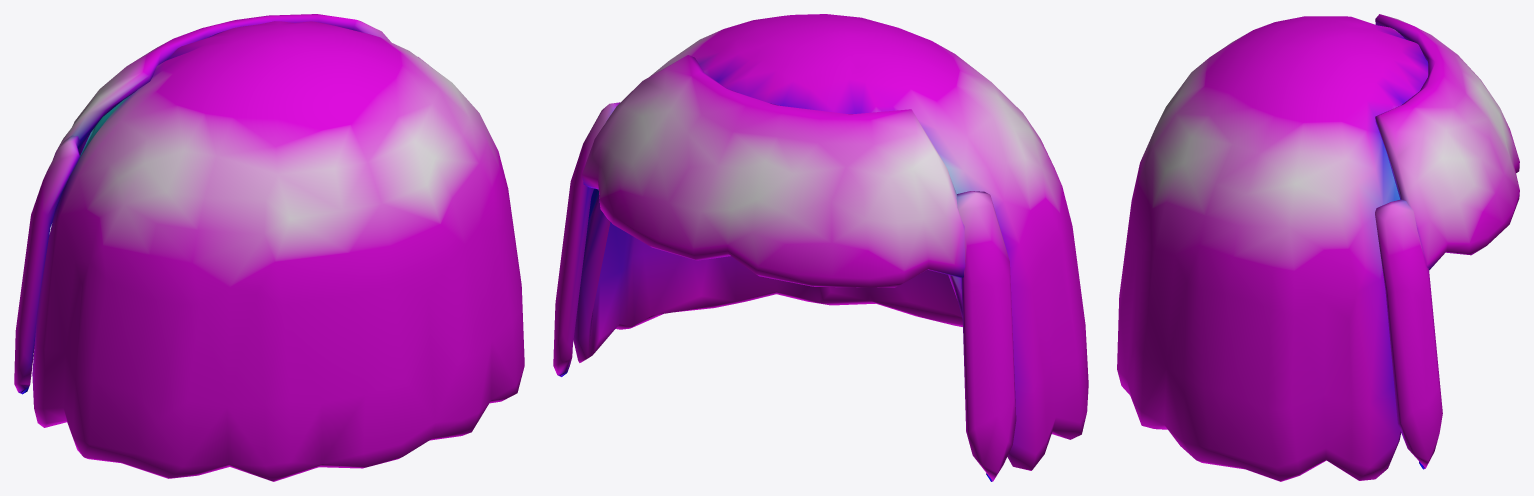
Rendered from bob_low.glb.
The picture shows the model from 3 angles, left to right: view 1: azimuth 30°, elevation 25°; view 2: azimuth 150°, elevation 25°; view 3: azimuth 270°, elevation 25°; orthographic projection. The views are drawn at different scales.
Parts seen in each view (by area): view 1: bob; view 2: bob; view 3: bob.
Part boxes in pixels (x1,y1,x2,y2): bob: (14, 14, 524, 481); bob: (553, 14, 1088, 481); bob: (1117, 14, 1519, 481).
Bounding box in the file's own units: 0.912 × 0.6907 × 0.7363.
